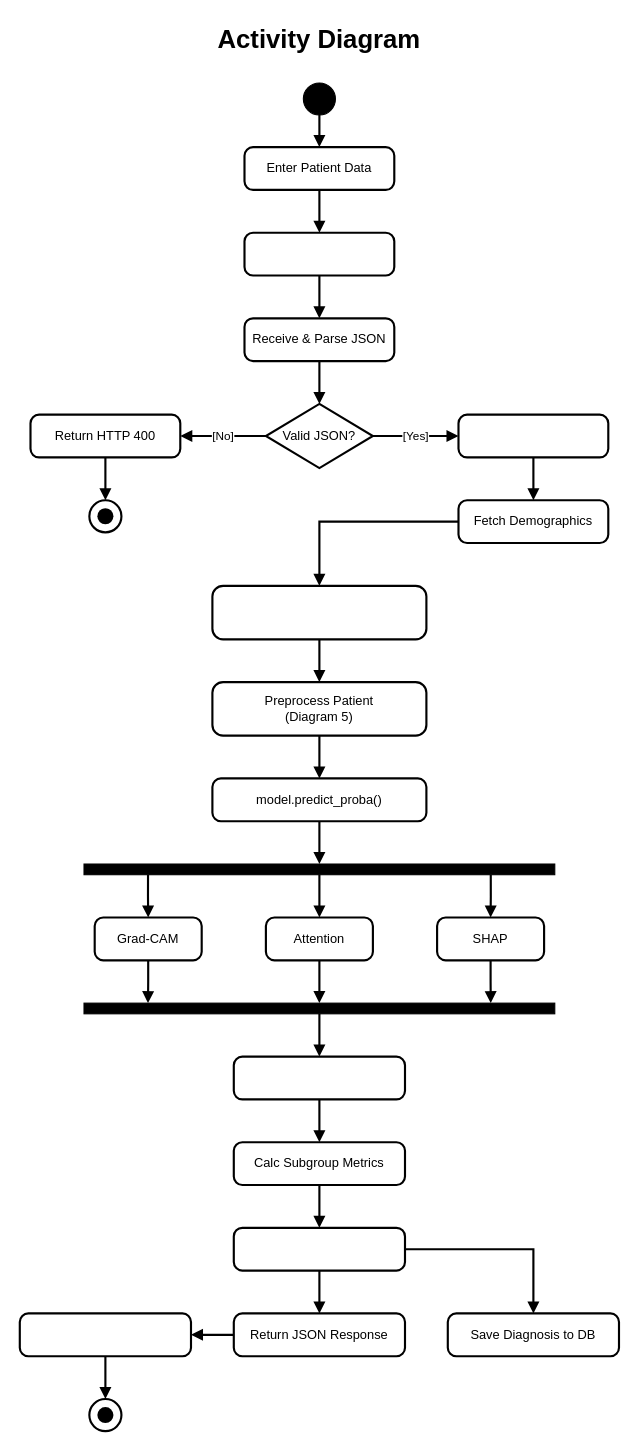
This 638x1450 diagram has some shape labels left out. Here are the shapes that lost their labels. From the top down, the centre of each, then its label:
At [319,253]: "Submit POST".
At [533,435]: "Deduplicate Patient".
At [319,612]: "Auto-Detect True Label (Cleveland Dataset KNN)".
At [319,1077]: "Aggregate to 13 Features".
At [319,1248]: "Generate PDF Report".
At [105,1334]: "Display Results & Charts".
